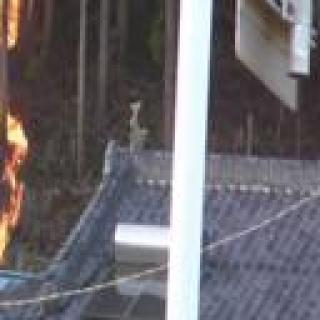fire: (0, 0, 21, 261)
